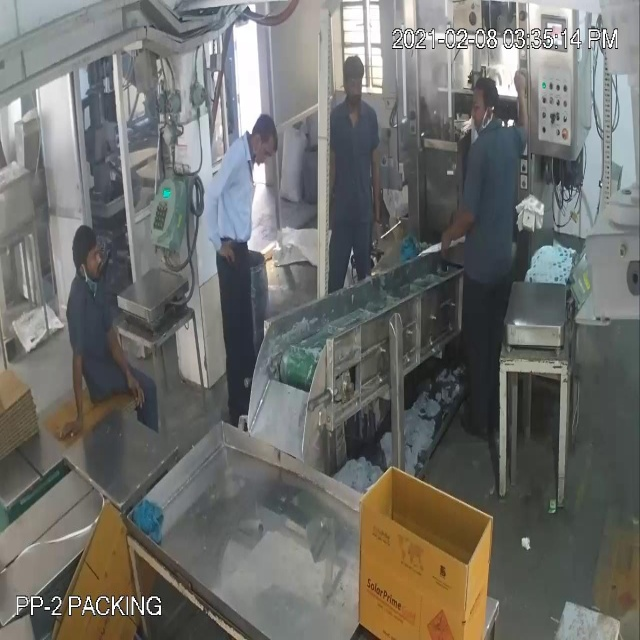Sin_guantes: (98, 304, 159, 428), (189, 154, 244, 282), (55, 318, 96, 447), (421, 194, 490, 252), (363, 134, 395, 248), (509, 63, 538, 162)
